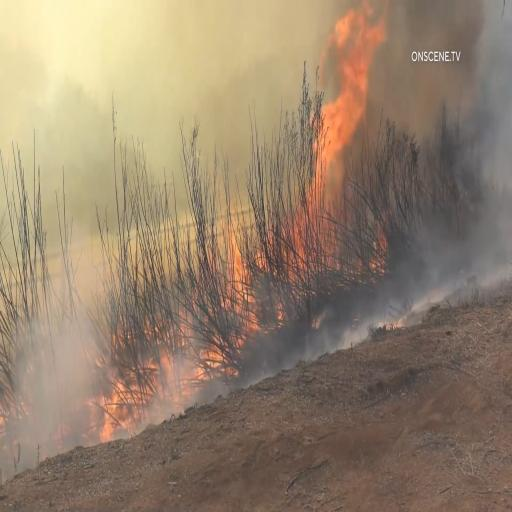fire: (323, 8, 371, 156), (108, 365, 179, 438)
smoke: (4, 6, 318, 62), (479, 8, 512, 262)
